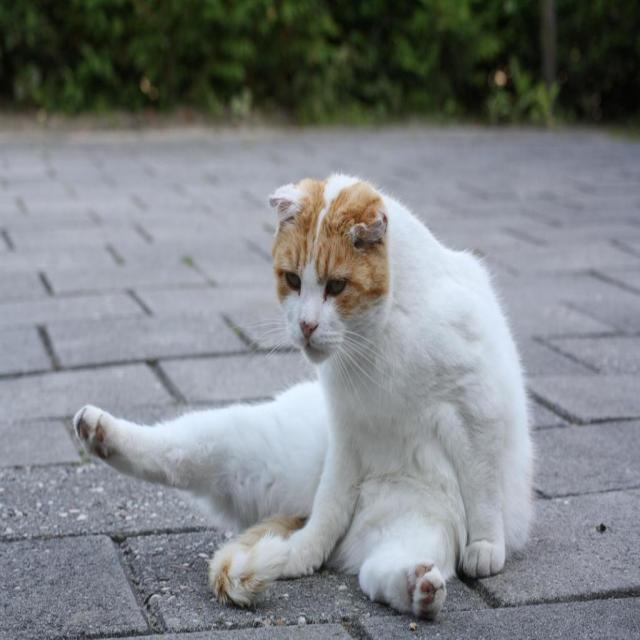Cat: (71, 166, 531, 619)
